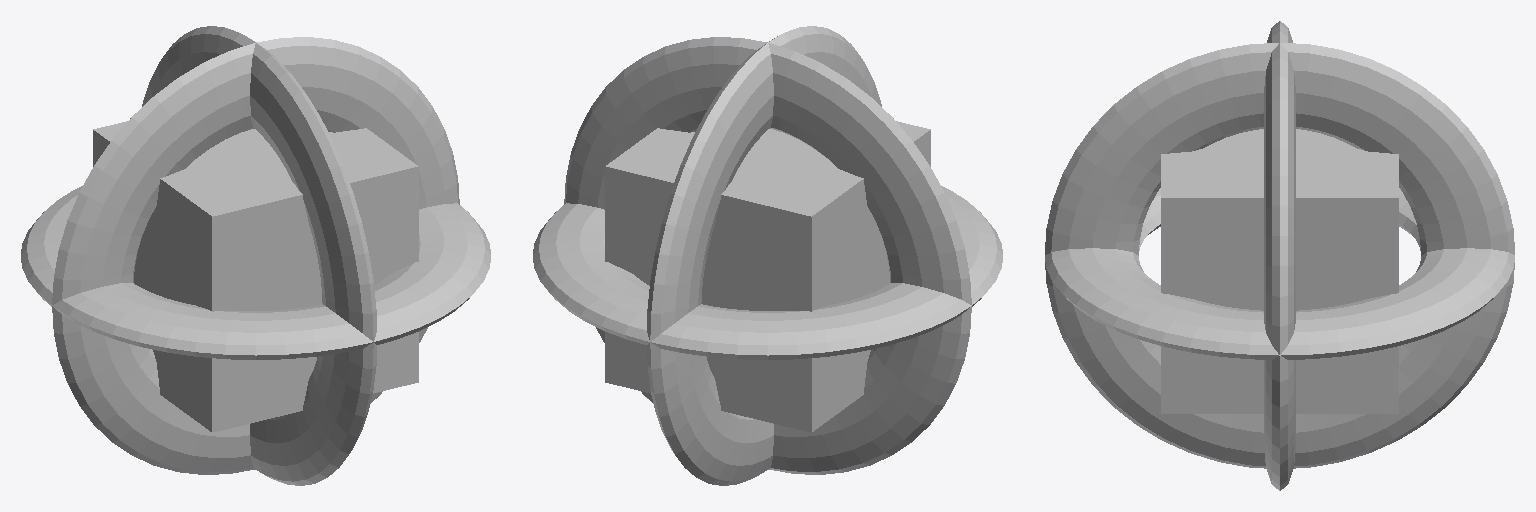
The model's file is rotationModel.obj.
The picture shows the model from 3 angles: view 1: azimuth 30°, elevation 25°; view 2: azimuth 150°, elevation 25°; view 3: azimuth 270°, elevation 25°; orthographic projection.
Visible parts, largest first — view 1: Cube; view 2: Cube; view 3: Cube.
Boxes of the visible parts, box(x1,y1,x2,y2) form: Cube: box(21, 26, 490, 485); Cube: box(533, 26, 1002, 485); Cube: box(1045, 21, 1514, 490).
Bounding box in the file's own units: 3.95 × 3.95 × 3.95.